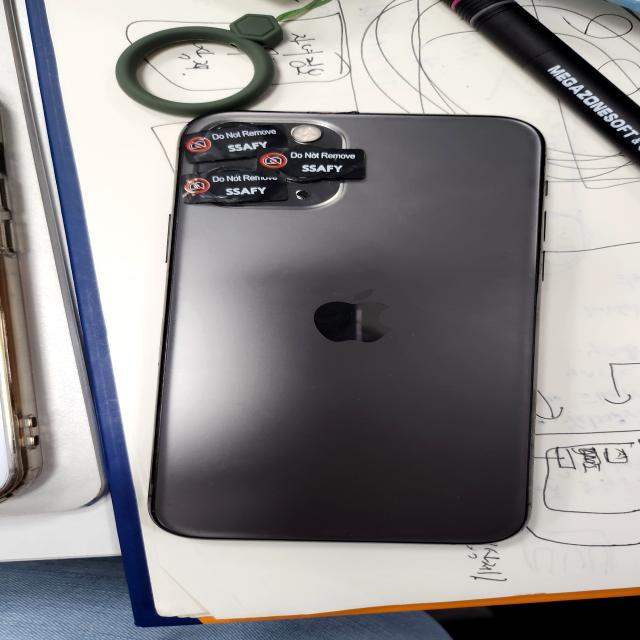phone: (149, 108, 548, 546)
sticker: (257, 147, 368, 181), (177, 128, 285, 160), (186, 173, 285, 202)
